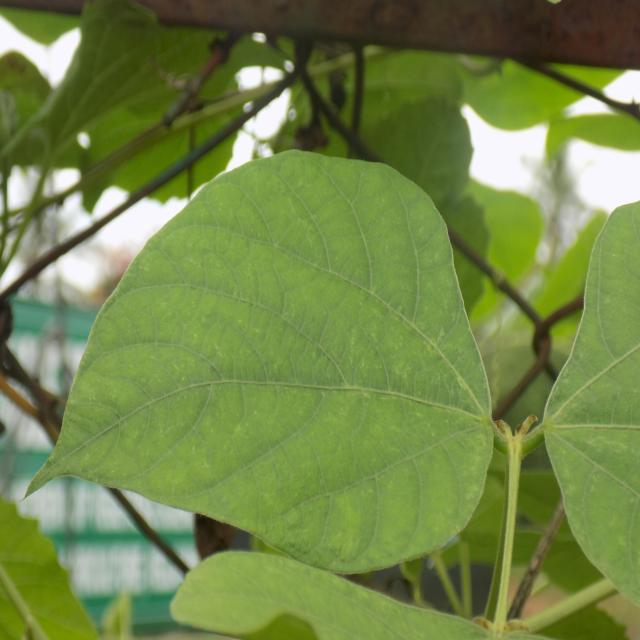Dolicos bean_healthy: (33, 148, 494, 569)
